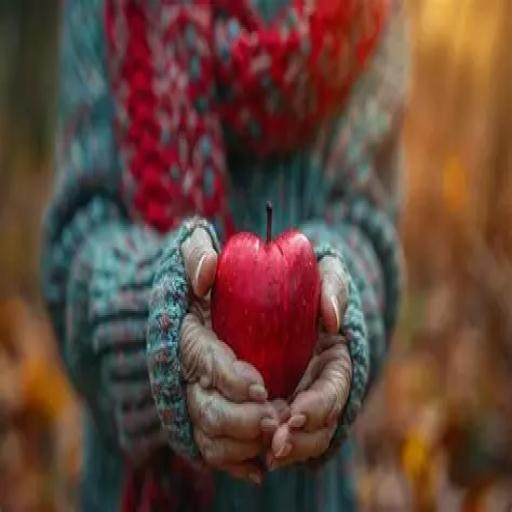apple: (211, 203, 320, 399)
